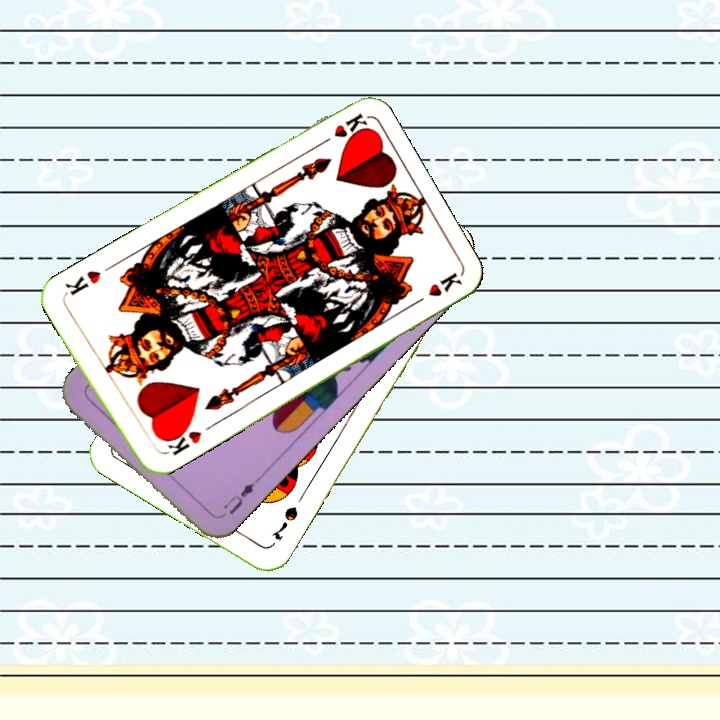EU: (219, 474, 263, 517)
HK: (313, 109, 371, 150), (156, 420, 204, 458)
S7: (268, 502, 301, 543)
